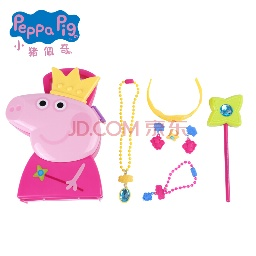Peppa: (5, 65, 112, 202)
